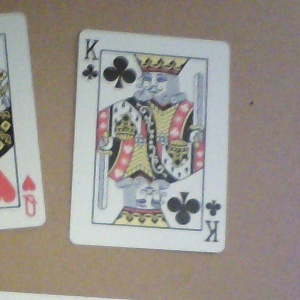card: (67, 27, 232, 255)
